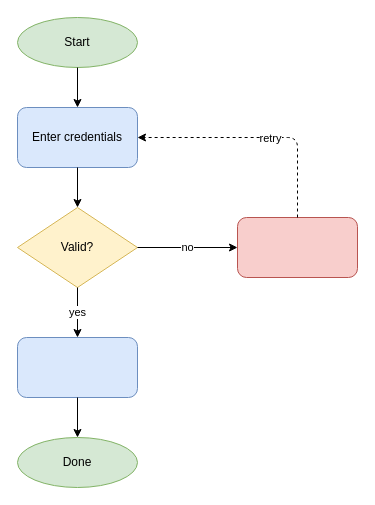
Image size: 375x505. Some labels were removed from this diagram. Here are the shapes that lost their labels. From the top down, the centre of each, then its label:
the point at 297,247: Show error (max 3 tries)
the point at 77,367: Create session
